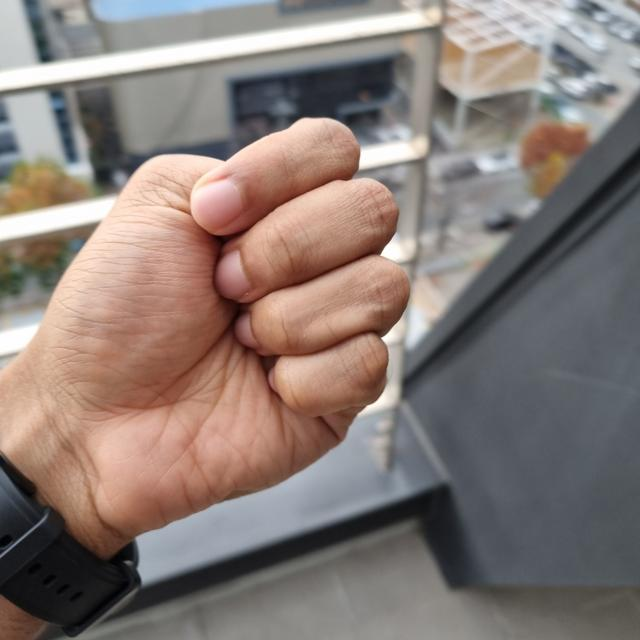Rock: (0, 116, 411, 550)
